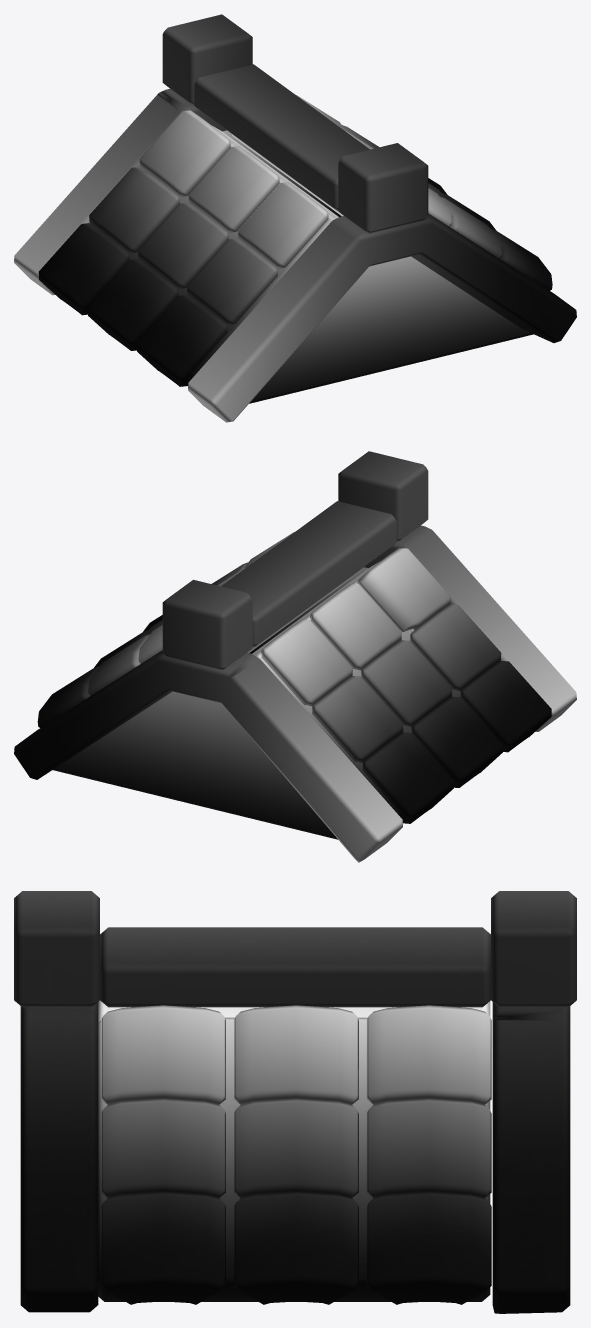
The model's file is SM_Brick_Roof_07.fbx.
3 renders of one model, top to bottom at view 1: azimuth 30°, elevation 25°; view 2: azimuth 150°, elevation 25°; view 3: azimuth 270°, elevation 25°, orthographic. The views are drawn at different scales.
Parts seen in each view (by area): view 1: SM_Brick_Roof_07; view 2: SM_Brick_Roof_07; view 3: SM_Brick_Roof_07.
Boxes of the visible parts, <box> form: SM_Brick_Roof_07: <box>14,14,576,422</box>; SM_Brick_Roof_07: <box>14,451,576,862</box>; SM_Brick_Roof_07: <box>14,891,576,1313</box>.
Size of the model in its own units: 1.11 by 0.5918 by 1.02.
